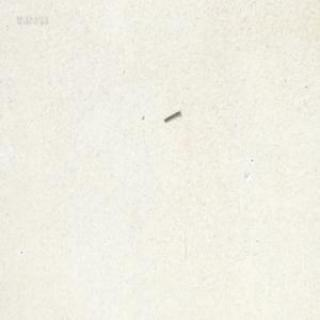Bolttrack_idkeyframe: (162, 107, 179, 120)
